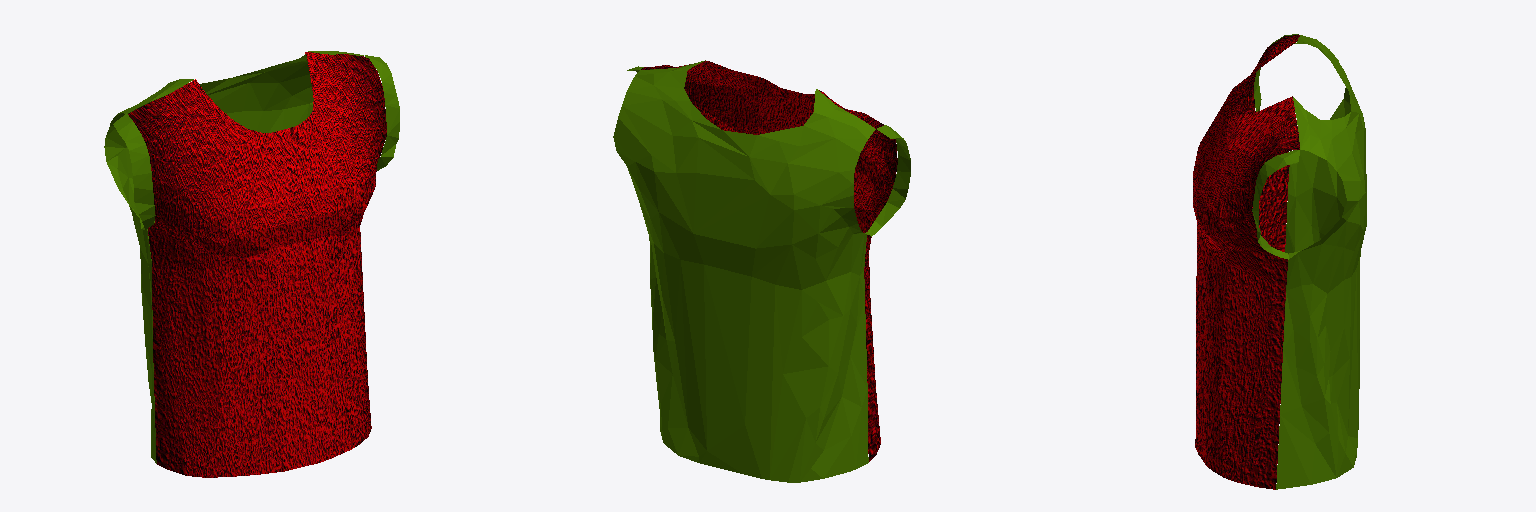
3 views of the same model, side by side, from view 1: azimuth 30°, elevation 25°; view 2: azimuth 150°, elevation 25°; view 3: azimuth 270°, elevation 25° (orthographic).
Parts seen in each view (by area): view 1: T_shirt.006; view 2: T_shirt.006; view 3: T_shirt.006.
Part boxes in pixels (left/top/right/bottom): T_shirt.006: left=104, top=51, right=399, bottom=477; T_shirt.006: left=613, top=60, right=910, bottom=482; T_shirt.006: left=1193, top=34, right=1366, bottom=489.
Bounding box in the file's own units: 0.2935 × 0.3892 × 0.1639.
2 materials, 1 textured.